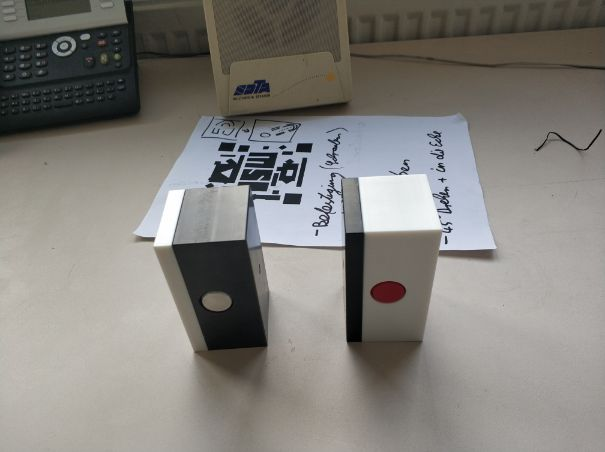black+white+red: (340, 172, 444, 346)
white+black+silver: (152, 184, 272, 352)
